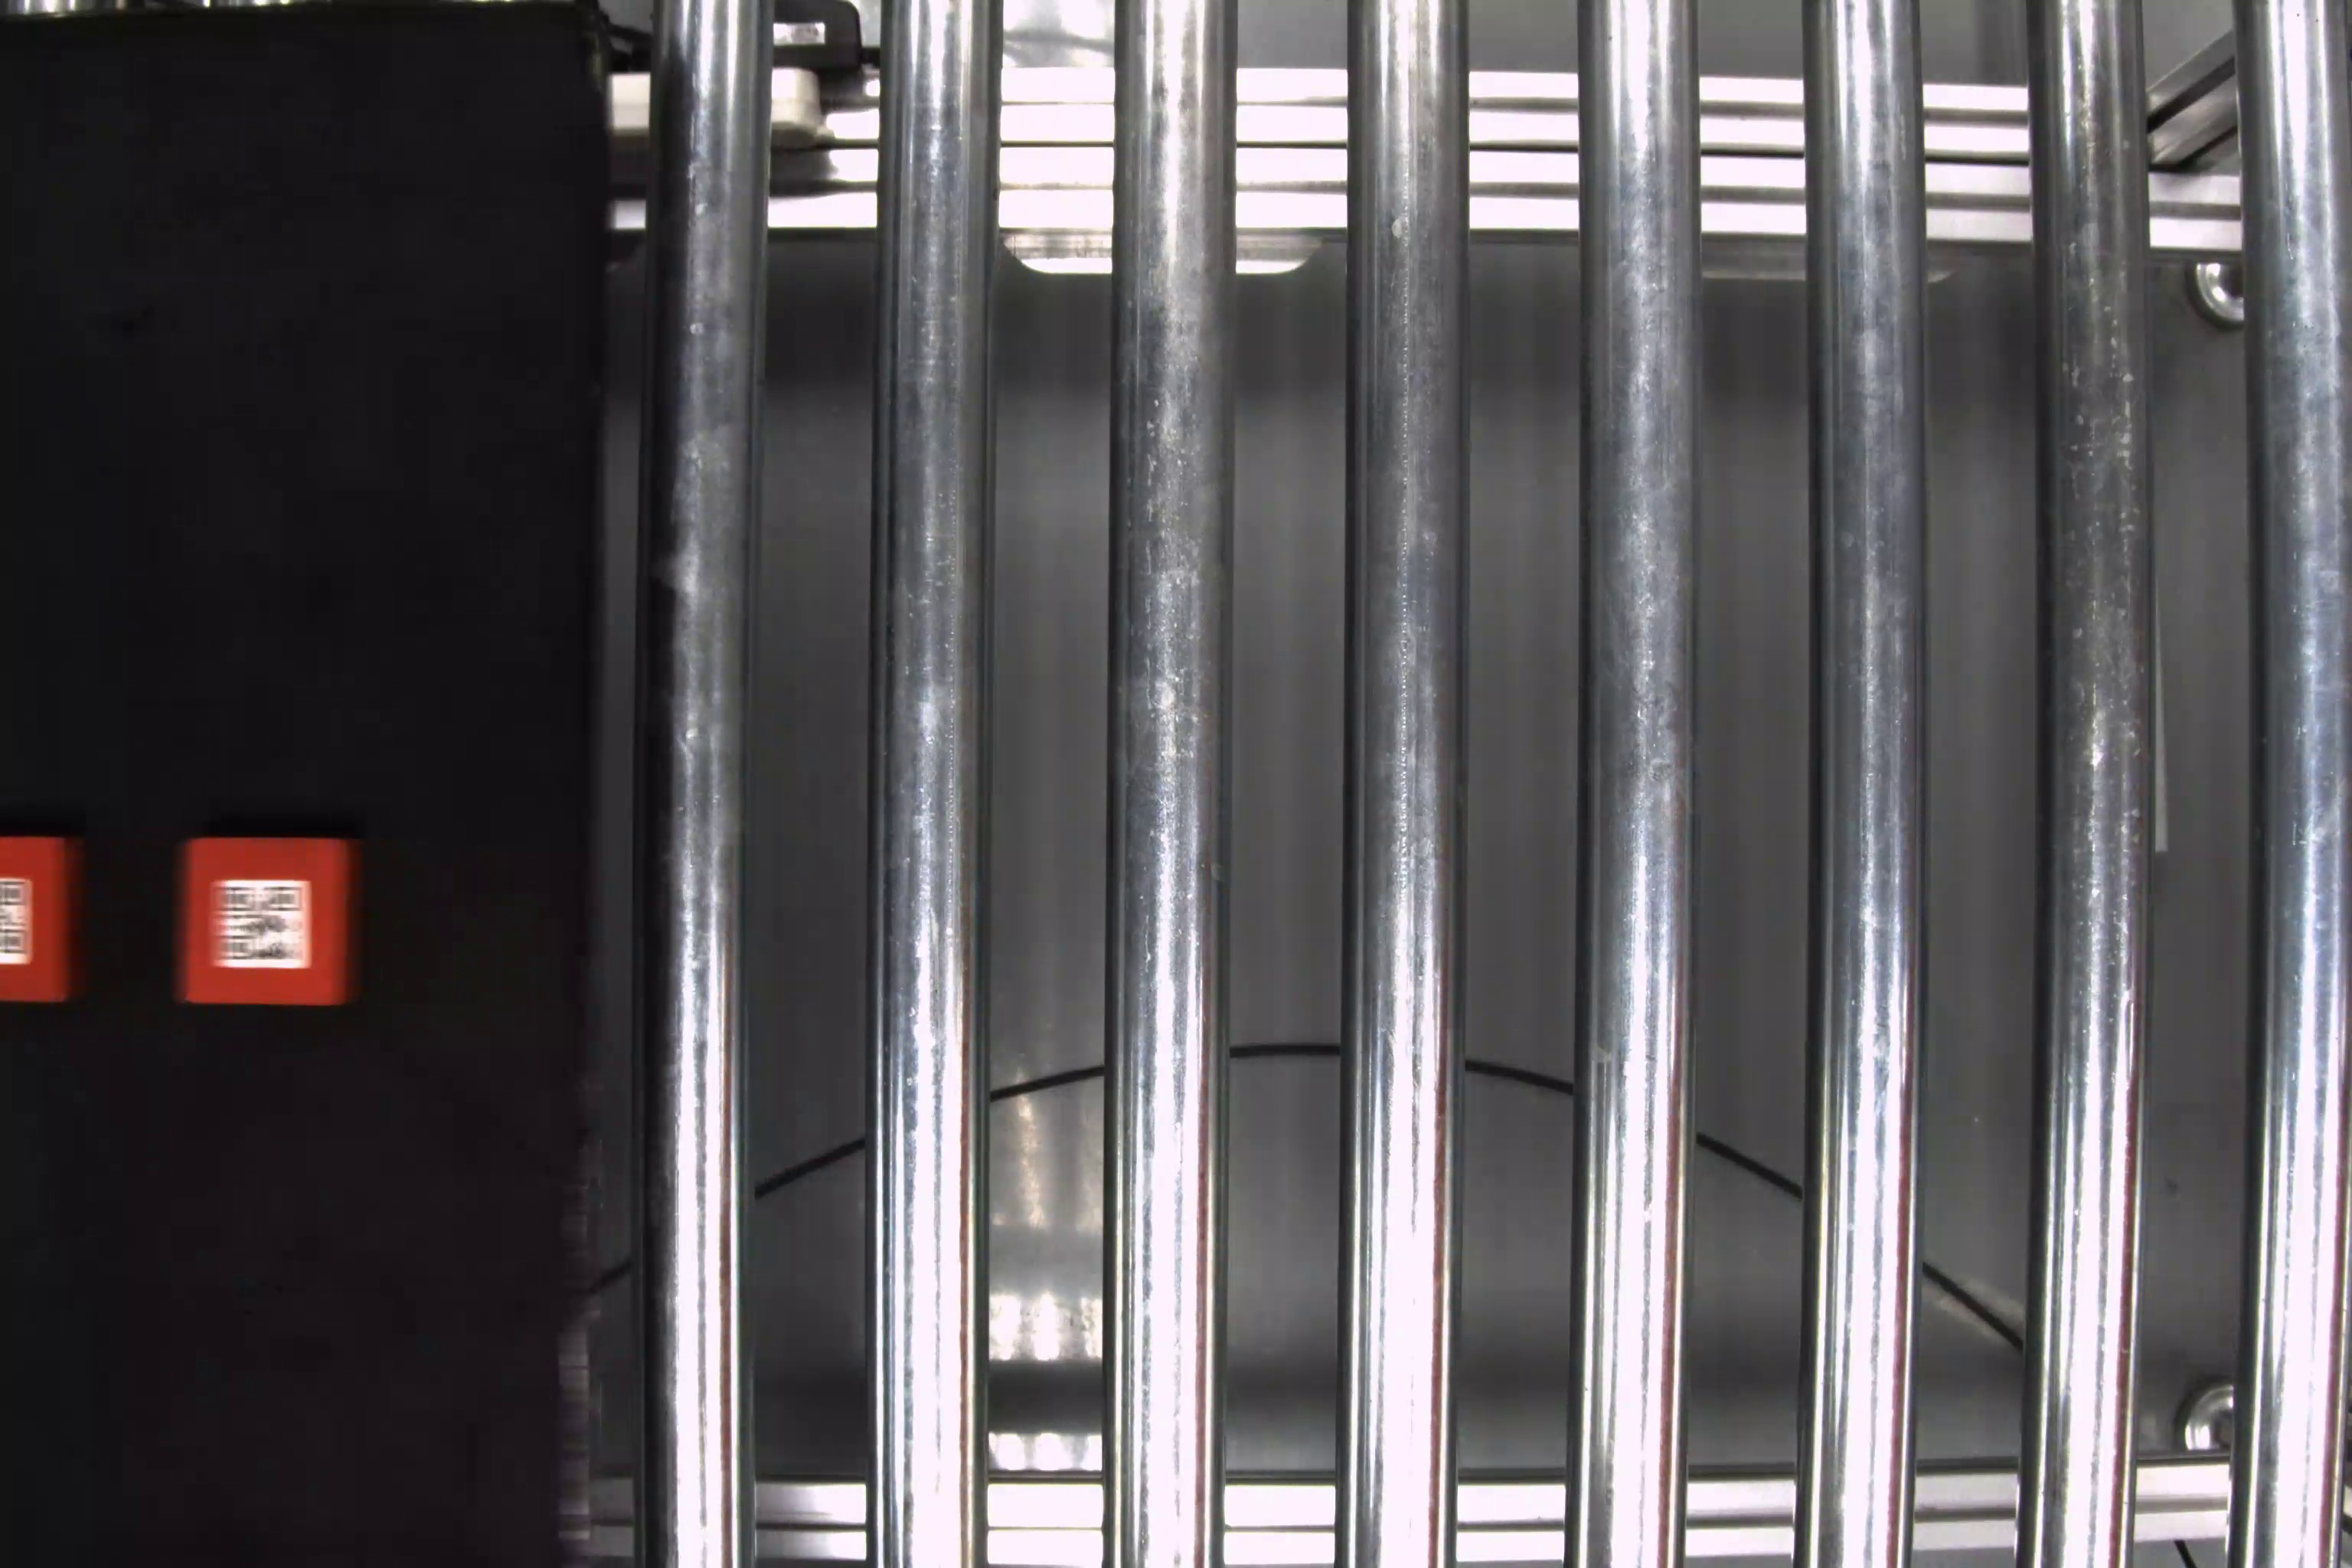wood: (178, 828, 367, 1015), (2, 833, 96, 1008)
